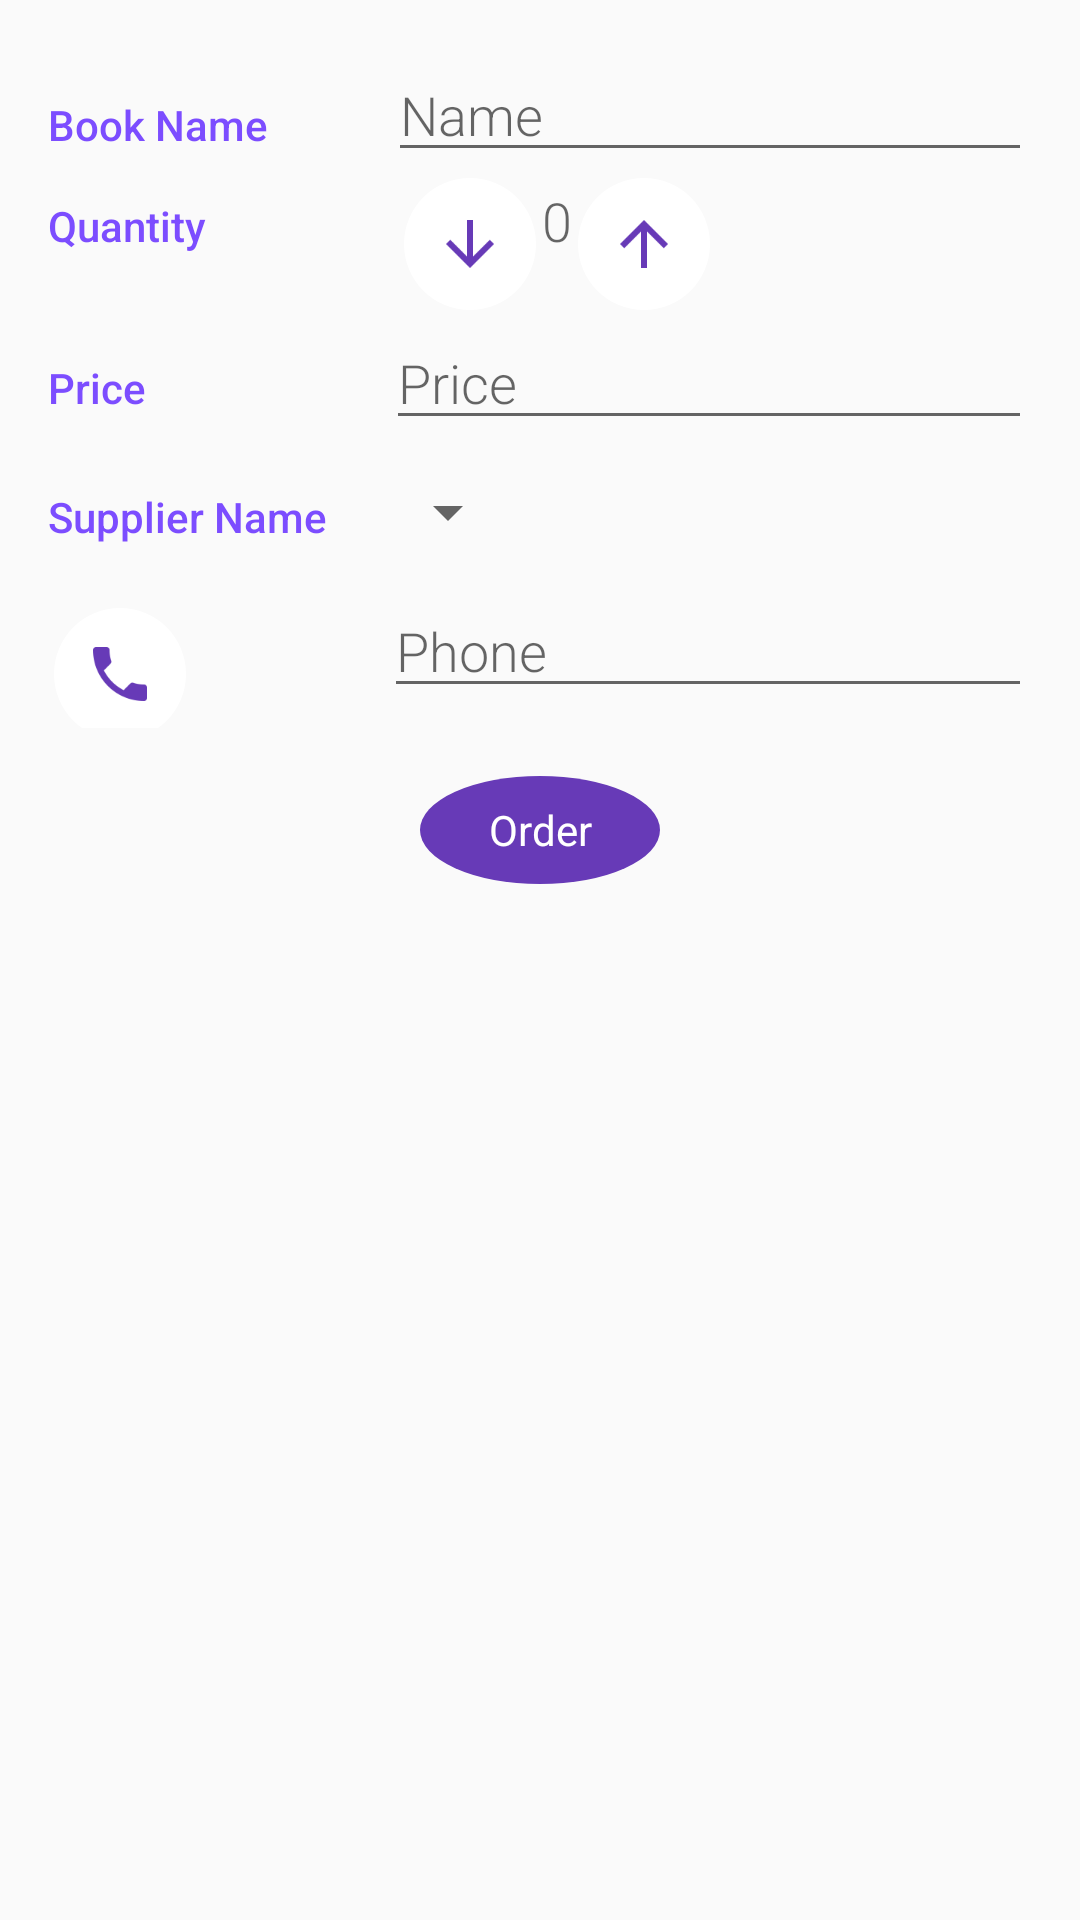

Icons on this 1080*1920 Android screen, each with the point to tap as point (x, y):
arrow downward: point (470, 244)
arrow upward: point (644, 244)
